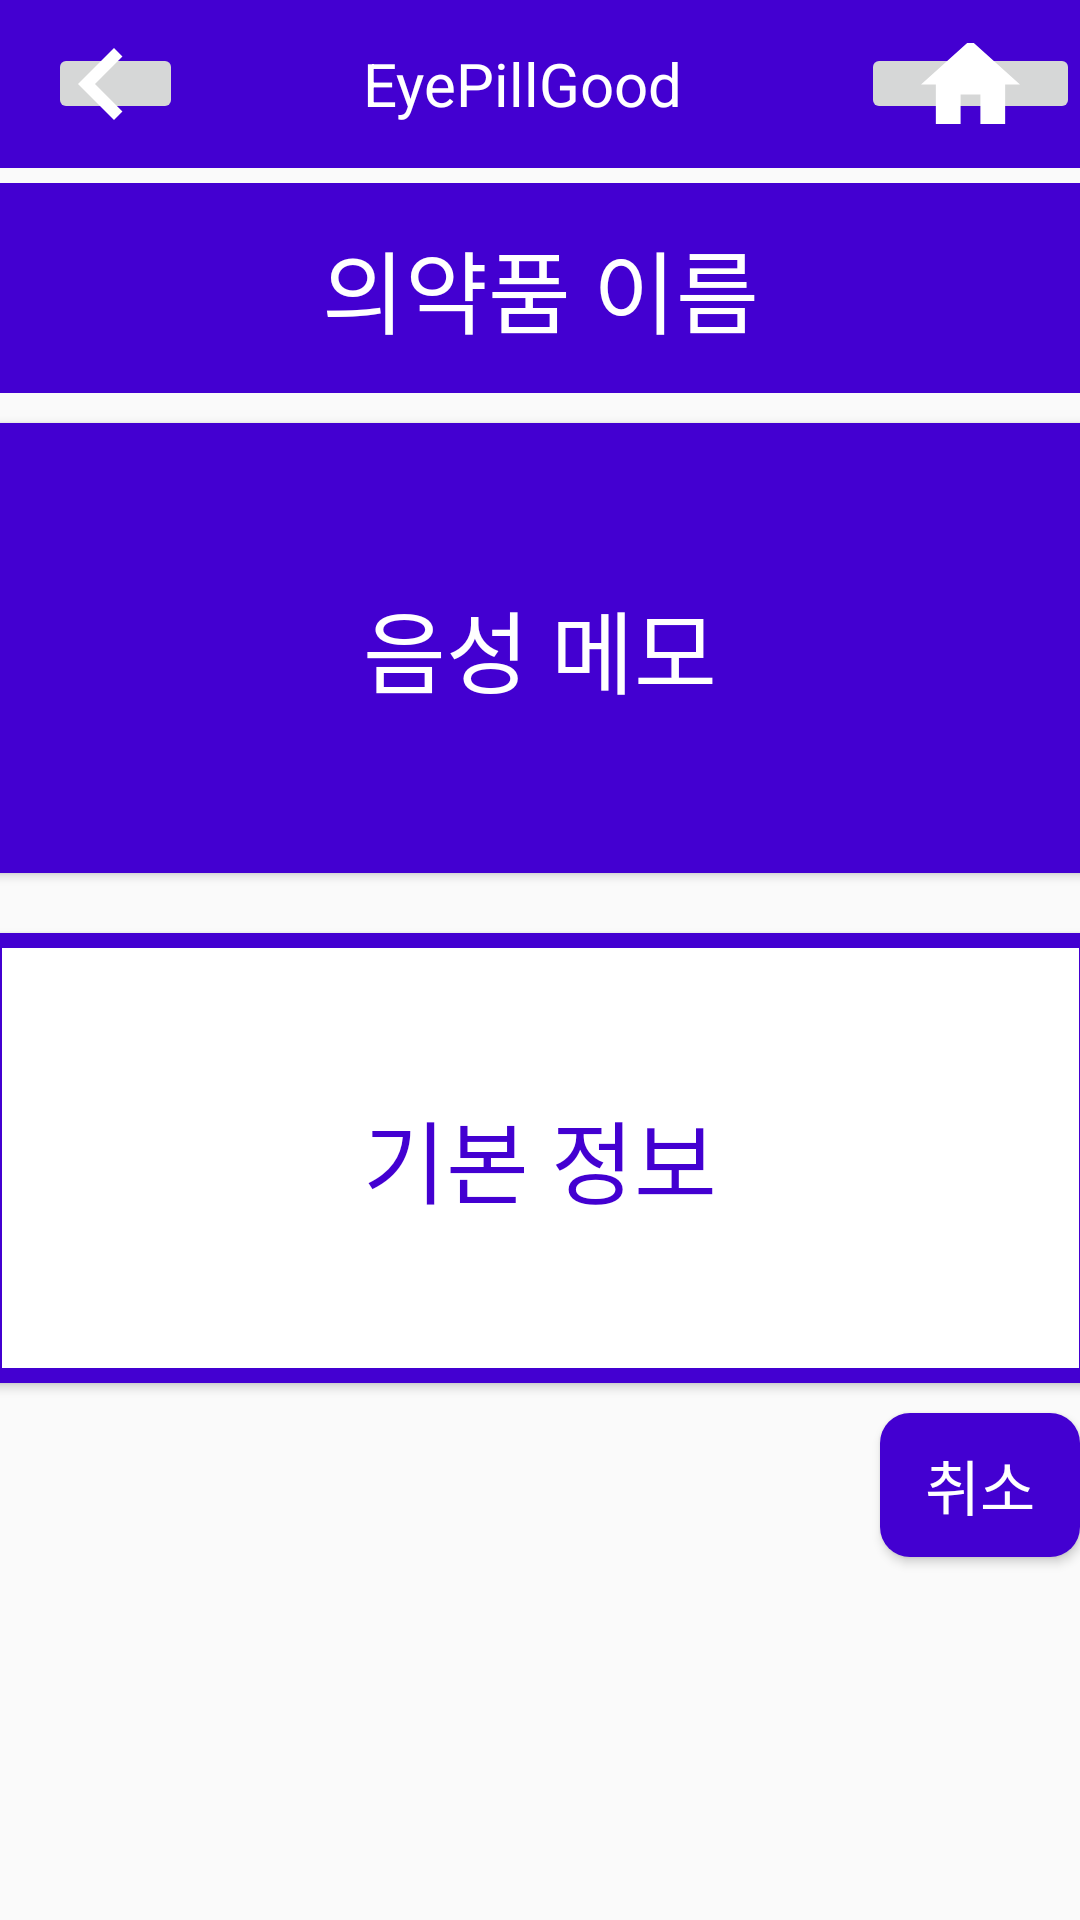

Where to tap for icons on this 1080w x 1920h app screen, as point (x, y):
Go back: point (115, 84)
Home: point (970, 83)
